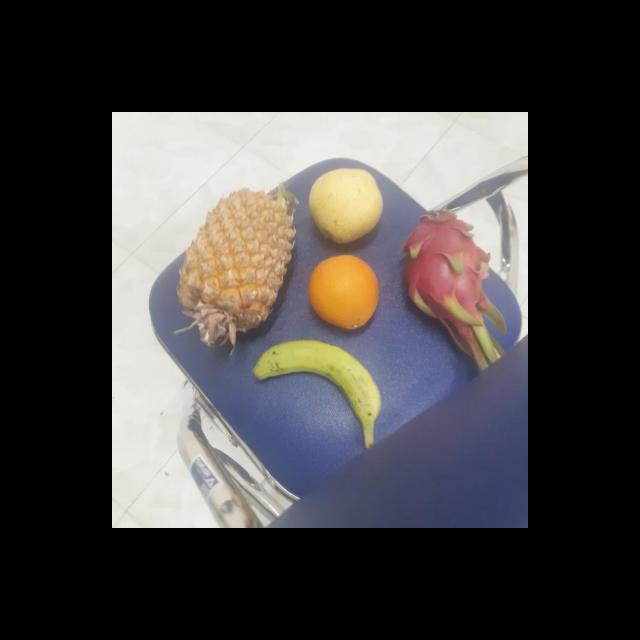banana: (252, 336, 384, 430)
orange: (306, 254, 386, 332)
pear: (306, 163, 388, 243)
pineapple: (180, 184, 302, 350)
pitaya: (403, 213, 494, 320)
